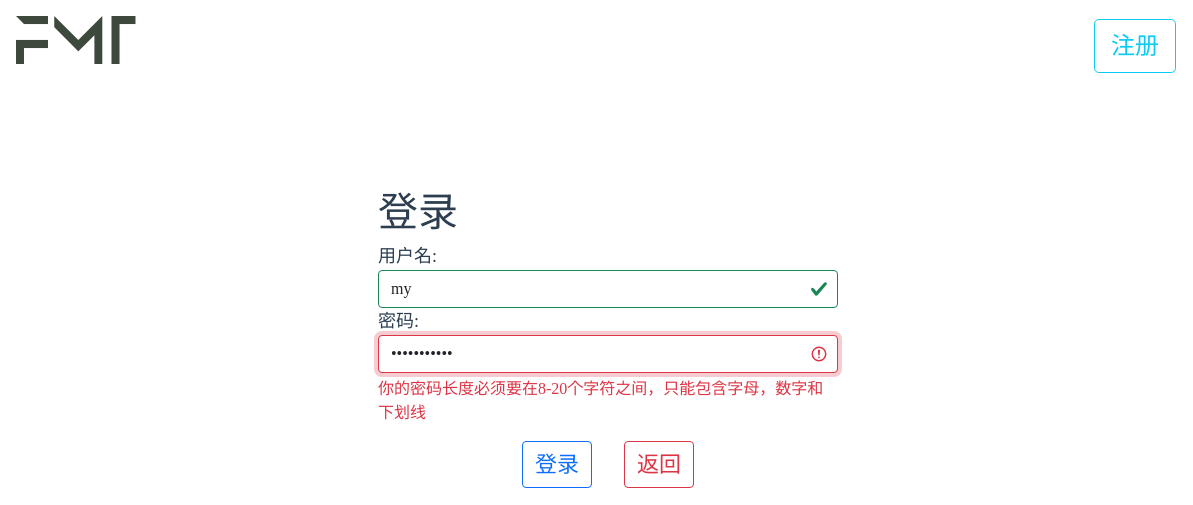
Login Page › Input Check › password length check
Type "my" into the password field labelled "密码:" at (608, 354), box [378,335,838,373]
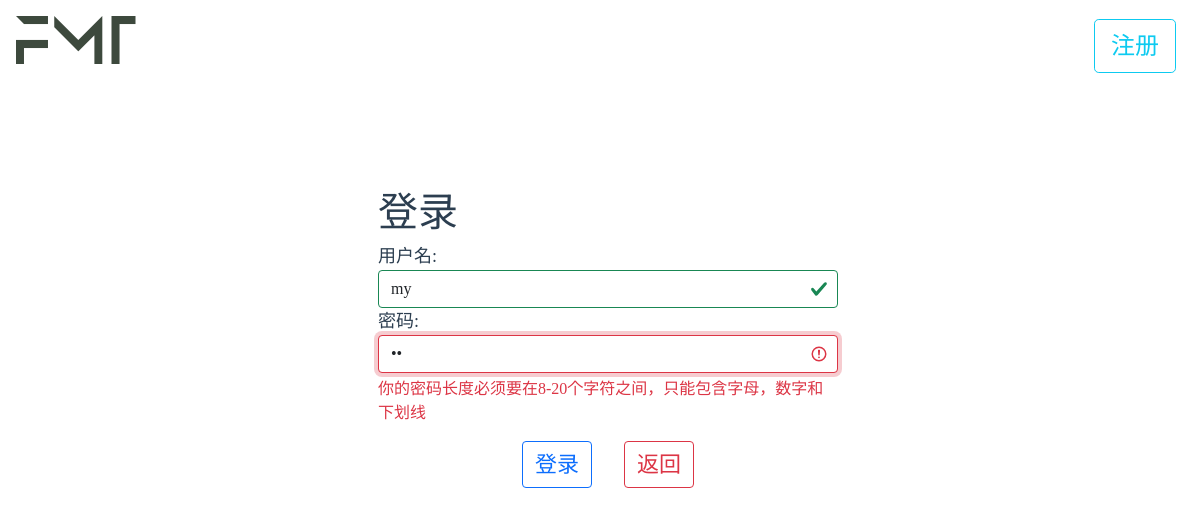
Expected: the text "你的密码长度必须要在8-20个字符之间，只能包含字母，数字和下划线" is shown, [378,376,838,424]
Type "password" into the password field labelled "密码:" at (608, 354), box [378,335,838,373]
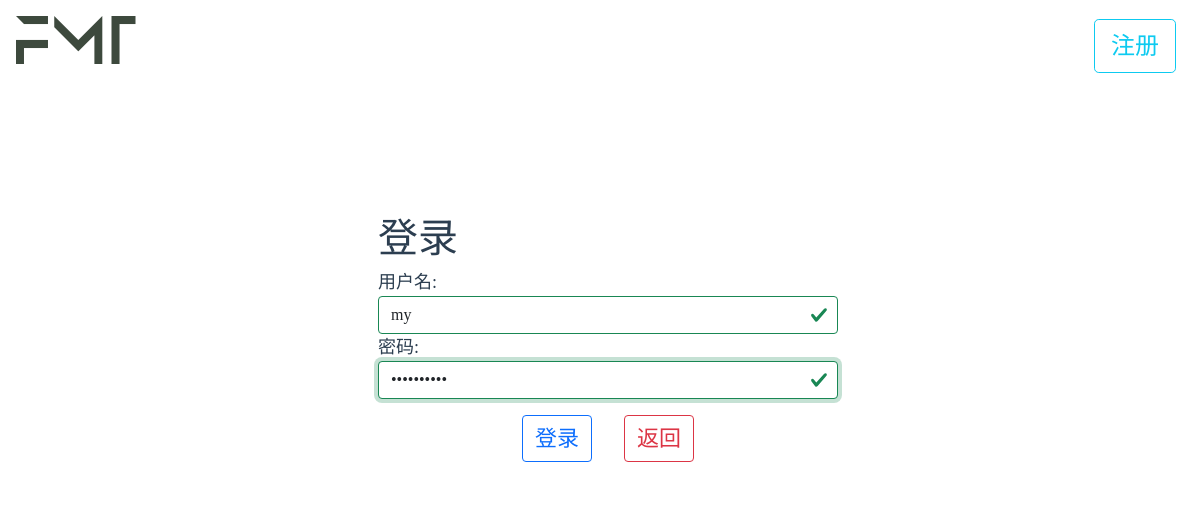
Result: the text with class "invalid-feedback" is gone
